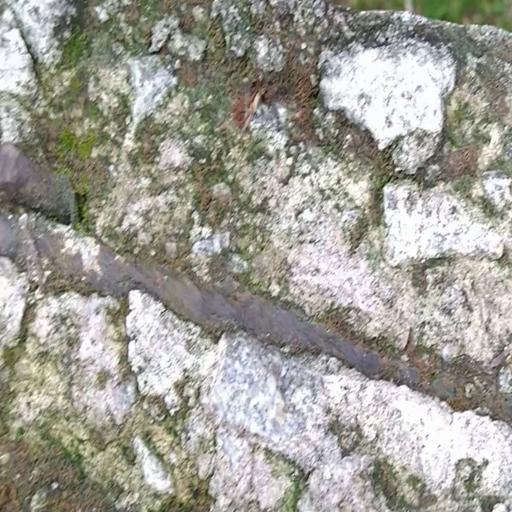spalling: (0, 0, 499, 488)
